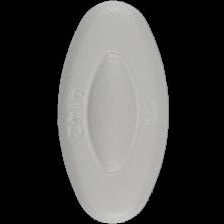54868-4395: (0, 0, 224, 224)
